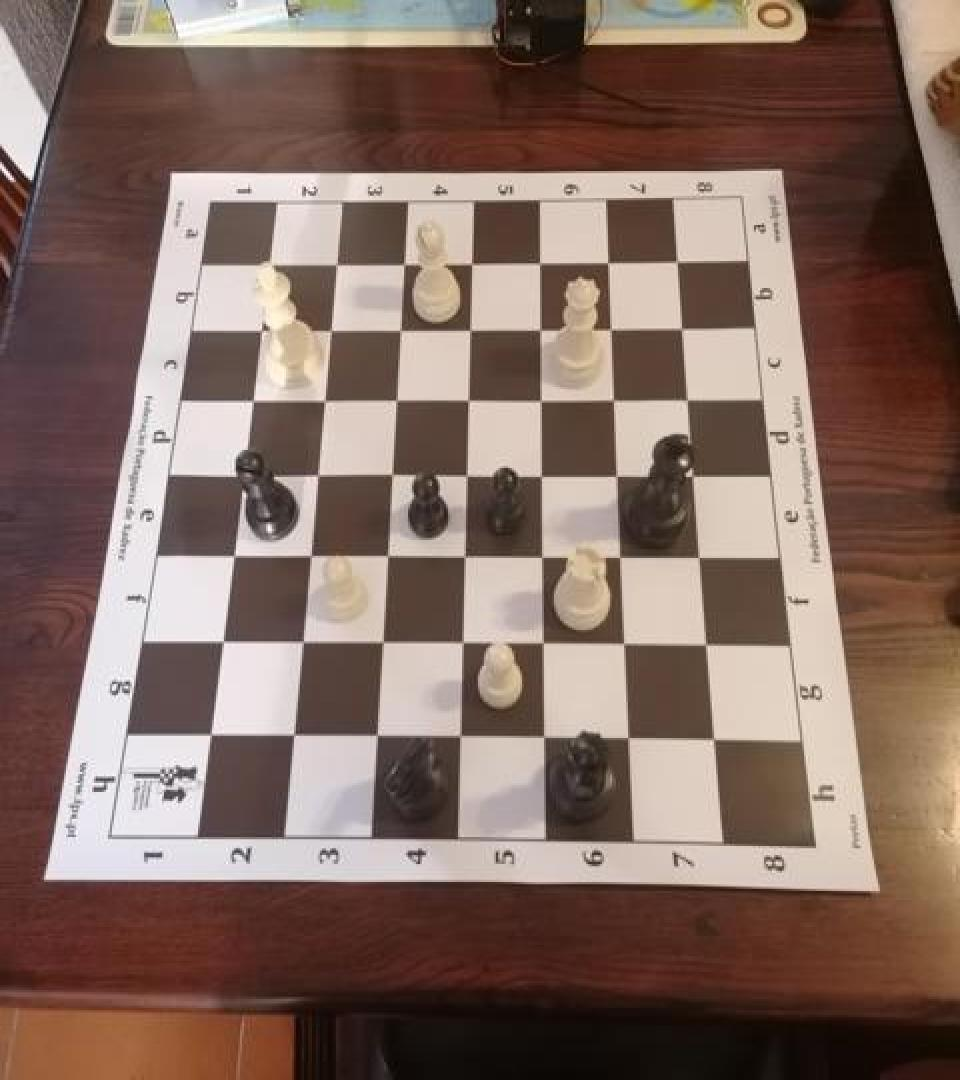xcorner: (665, 244, 695, 278), (596, 244, 626, 278), (527, 244, 557, 278), (458, 244, 488, 278), (390, 244, 420, 278), (322, 244, 352, 278), (254, 243, 284, 277), (316, 309, 346, 343), (246, 309, 276, 343), (675, 381, 705, 415), (602, 381, 632, 415), (528, 381, 558, 415), (455, 381, 485, 415), (382, 380, 412, 414), (310, 380, 340, 414), (237, 380, 267, 414), (681, 458, 711, 492), (605, 458, 635, 492), (303, 456, 333, 490), (228, 456, 258, 490), (688, 540, 718, 574), (609, 539, 639, 573), (530, 539, 560, 573), (452, 538, 482, 572), (374, 538, 404, 572), (296, 536, 326, 570), (218, 536, 248, 570), (613, 626, 643, 660), (531, 626, 561, 660), (450, 626, 480, 660), (369, 624, 399, 658), (288, 624, 318, 658), (207, 623, 237, 657), (702, 722, 732, 756), (617, 721, 647, 755), (532, 721, 562, 755), (448, 720, 478, 754), (363, 719, 393, 753), (279, 718, 309, 752), (195, 716, 225, 750), (670, 311, 700, 344), (599, 311, 629, 344), (528, 311, 558, 344), (457, 311, 487, 344), (386, 311, 416, 344), (529, 457, 559, 490), (454, 457, 484, 490), (378, 457, 408, 490), (695, 628, 725, 661)
